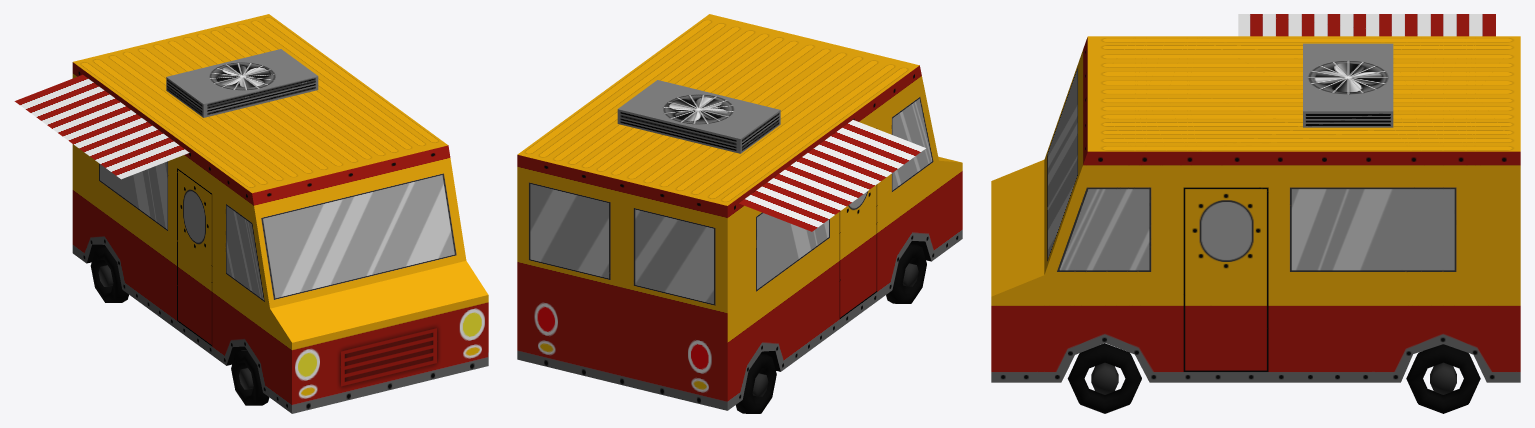
The model's file is FOOD_TRUCK_V01.fbx.
The picture shows the model from 3 angles, left to right: view 1: azimuth 30°, elevation 25°; view 2: azimuth 150°, elevation 25°; view 3: azimuth 270°, elevation 25°; orthographic projection. The views are drawn at different scales.
Visible parts, largest first — view 1: FOOD_TRUCK; view 2: FOOD_TRUCK; view 3: FOOD_TRUCK.
Part boxes in pixels (x1,y1,x2,y2): FOOD_TRUCK: (14, 14, 488, 413); FOOD_TRUCK: (517, 14, 962, 413); FOOD_TRUCK: (991, 14, 1520, 413).
Size of the model in its own units: 290 by 244 by 416.
